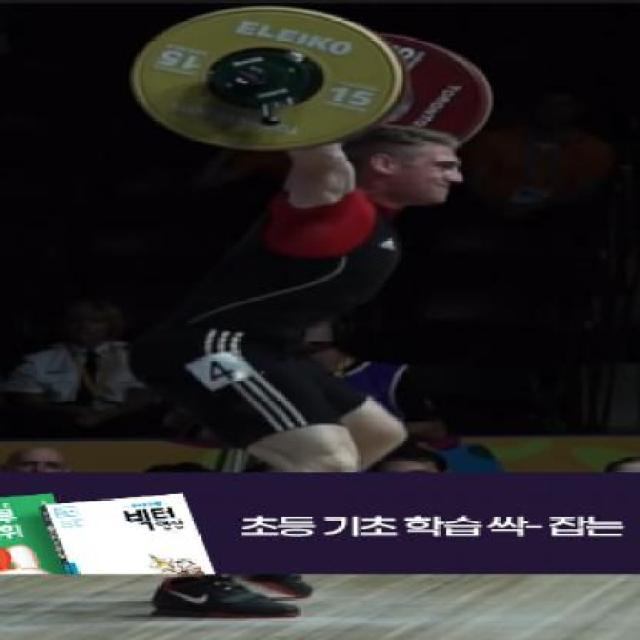barbell: (130, 4, 415, 158)
